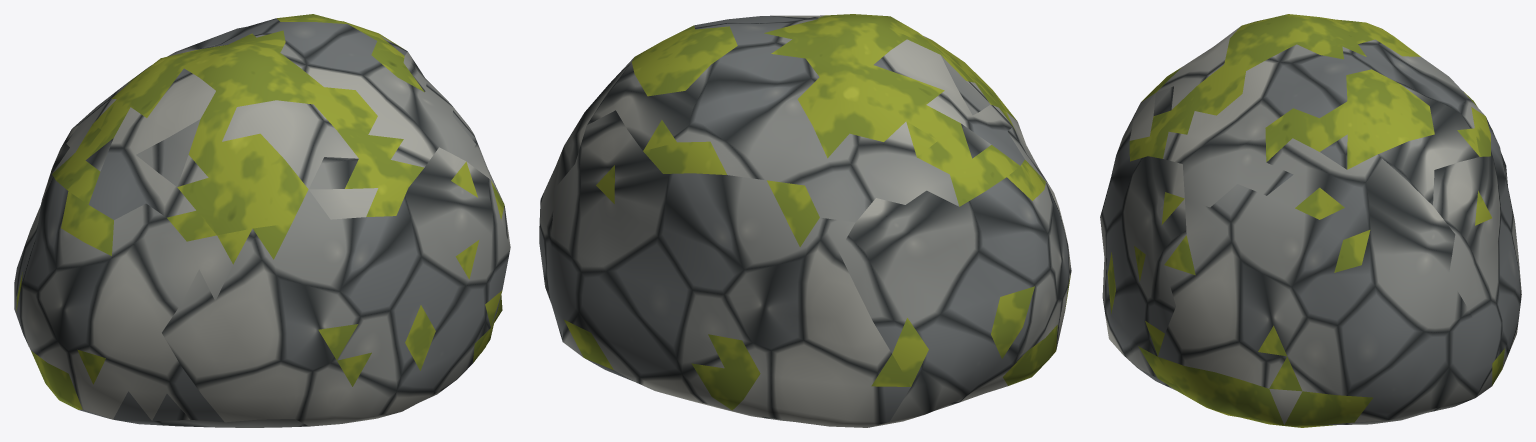
The model's file is field_rock.glb.
3 renders of one model, left to right at view 1: azimuth 30°, elevation 25°; view 2: azimuth 150°, elevation 25°; view 3: azimuth 270°, elevation 25°, orthographic. The views are drawn at different scales.
Visible parts, largest first — view 1: field_rock_stone_mesh; view 2: field_rock_stone_mesh; view 3: field_rock_stone_mesh.
Boxes of the visible parts, x1,y1,x2,y2 form: field_rock_stone_mesh: (14, 14, 510, 427); field_rock_stone_mesh: (539, 14, 1071, 427); field_rock_stone_mesh: (1100, 14, 1521, 427).
Size of what is drawn, in the model's own units: 1.35 by 0.9 by 1.1.
Materials: 2 (2 with a texture image).
